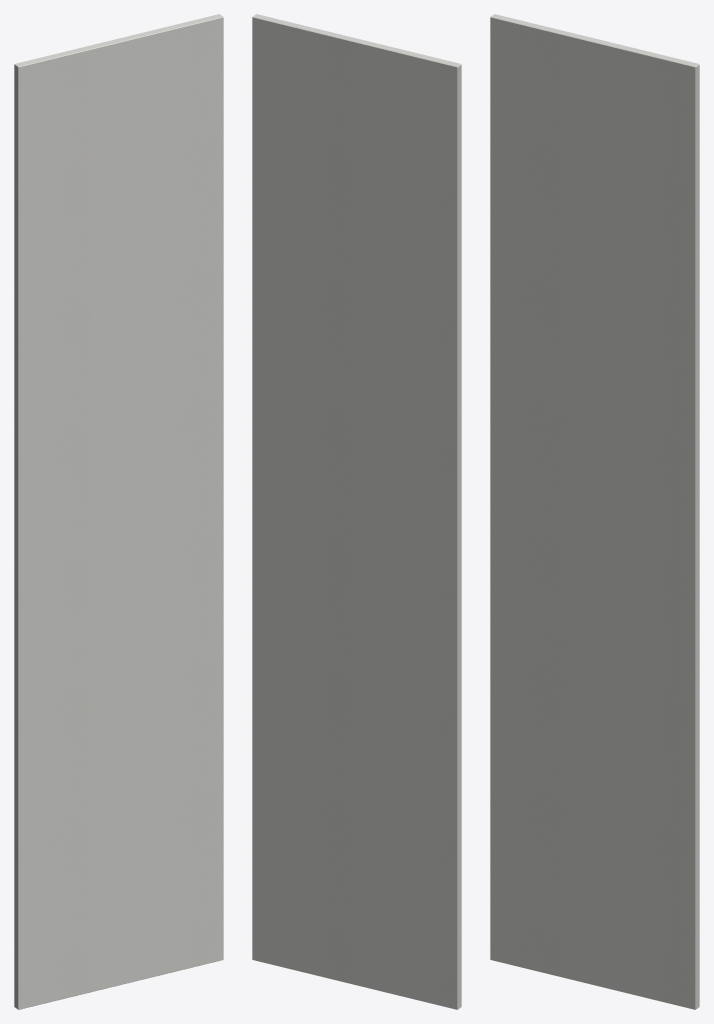
3 views of the same model, side by side, from view 1: azimuth 30°, elevation 25°; view 2: azimuth 150°, elevation 25°; view 3: azimuth 330°, elevation 25° (orthographic).
Visible parts, largest first — view 1: HM1002737; view 2: HM1002737; view 3: HM1002737.
Part boxes in pixels (<box>): HM1002737: <box>14,14,223,1009</box>; HM1002737: <box>252,14,461,1009</box>; HM1002737: <box>490,14,699,1009</box>.
Size of the model in its own units: 0.495 by 2.17 by 0.018.
Materials: 1 (1 with a texture image).
